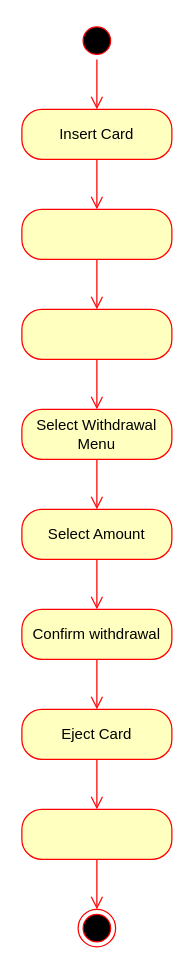
Image size: 194x969. Some labels were removed from this diagram. The centre of each missing label's shape, as x and y in pixels:
"Authenticate Customer" belongs at (96,333).
"Dispense Cash" belongs at (96,833).
"Read Card" belongs at (96,233).
